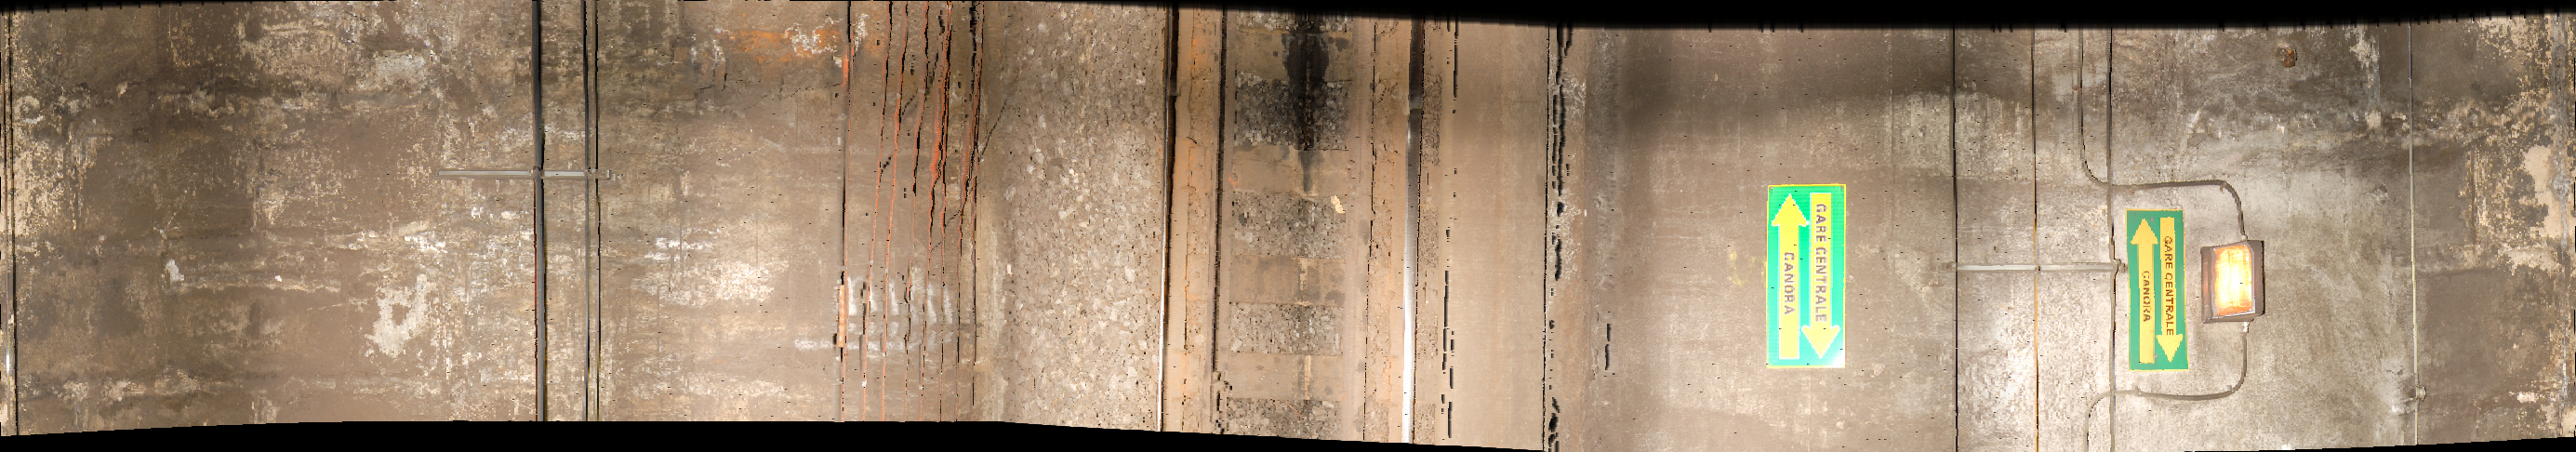light: (2196, 242, 2269, 327)
pipes: (826, 5, 999, 452), (527, 3, 608, 452), (1940, 28, 1980, 452), (2021, 31, 2050, 452)
sign: (1769, 184, 1847, 370), (2129, 209, 2183, 370)
tracks: (1158, 8, 1456, 452)
